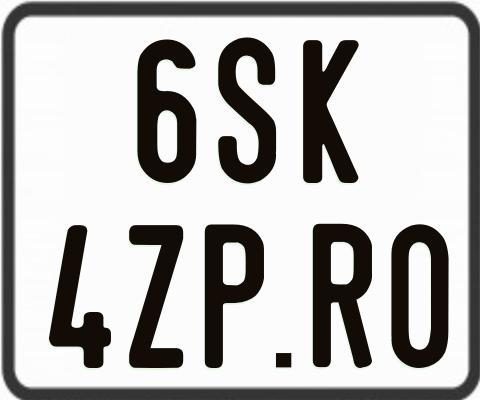0: (388, 222, 450, 371)
4: (47, 225, 113, 374)
6: (137, 39, 198, 182)
K: (302, 37, 363, 186)
P: (205, 224, 266, 373)
R: (310, 223, 374, 373)
S: (217, 34, 279, 186)
Z: (127, 222, 185, 367)
